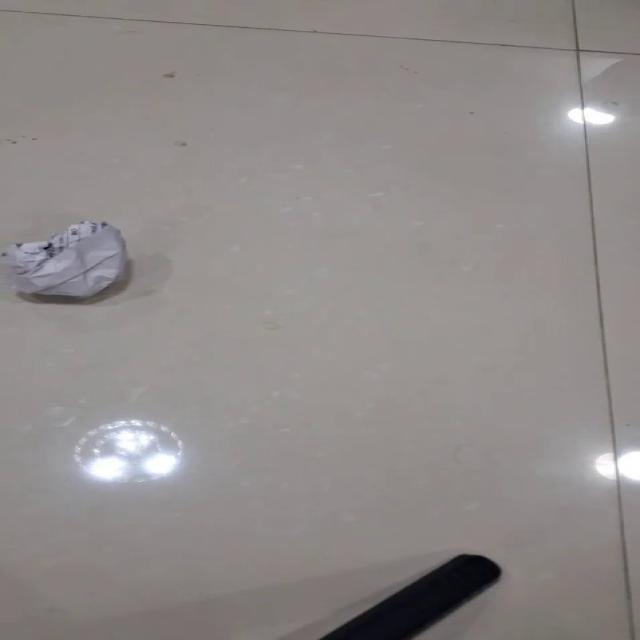paper: (4, 219, 127, 299)
